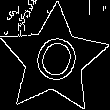O_S: (25, 27, 83, 91)
